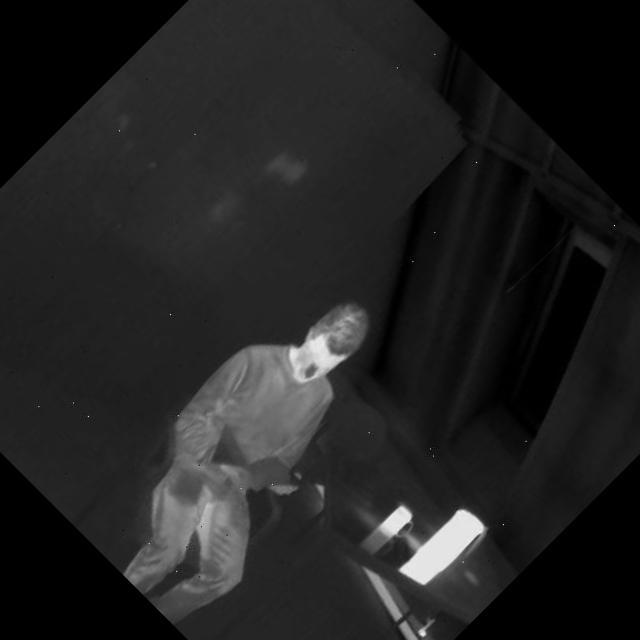person: (65, 257, 451, 640)
